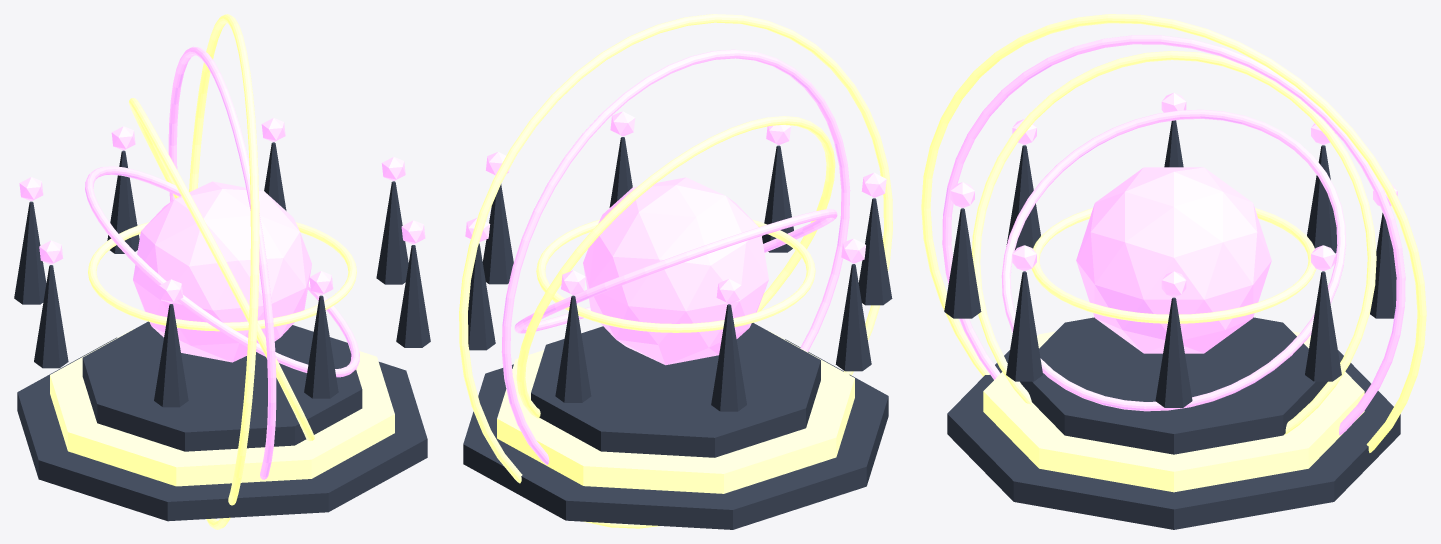
The model's file is gpu-blender-v36.glb.
3 renders of one model, left to right at view 1: azimuth 30°, elevation 25°; view 2: azimuth 150°, elevation 25°; view 3: azimuth 270°, elevation 25°, orthographic. The views are drawn at different scales.
Visible parts, largest first — view 1: Cylinder.002, Cylinder, SovereignCore_zoth-os-website, Cylinder.001, Torus.004, Torus.003, Torus.001, Torus.002, Torus, Cone.005, Cone.004, Cone.006 (+5 smaller); view 2: Cylinder.002, SovereignCore_zoth-os-website, Cylinder, Cylinder.001, Torus.004, Torus.003, Torus.002, Torus.001, Torus, Cone.004, Cone.003, Cone.002 (+5 smaller); view 3: SovereignCore_zoth-os-website, Cylinder.002, Cylinder, Cylinder.001, Torus.004, Torus.003, Torus.002, Torus.001, Torus, Cone.006, Cone.001, Cone.007 (+5 smaller).
Part boxes in pixels (box(x1,y1,x2,y2)): Cylinder.002: box(82, 321, 362, 451); Cylinder: box(17, 337, 427, 521); SovereignCore_zoth-os-website: box(133, 181, 311, 362); Cylinder.001: box(50, 329, 394, 486); Torus.004: box(189, 14, 259, 529); Torus.003: box(168, 46, 276, 479); Torus.001: box(85, 166, 359, 377); Torus.002: box(129, 98, 314, 440); Torus: box(88, 222, 356, 331); Cone.005: box(154, 304, 188, 407); Cone.004: box(34, 265, 68, 368); Cone.006: box(304, 295, 338, 398); Cylinder.002: box(531, 323, 820, 457); SovereignCore_zoth-os-website: box(583, 177, 768, 365); Cylinder: box(463, 339, 888, 529); Cylinder.001: box(497, 330, 854, 493); Torus.004: box(459, 14, 892, 528); Torus.003: box(501, 49, 850, 464); Torus.002: box(516, 116, 835, 418); Torus.001: box(514, 209, 837, 333); Torus: box(536, 219, 815, 332); Cone.004: box(835, 264, 871, 371); Cone.003: box(711, 304, 746, 411); Cone.002: box(555, 295, 591, 402); SovereignCore_zoth-os-website: box(1076, 167, 1271, 353); Cylinder.002: box(1020, 317, 1327, 454); Cylinder: box(947, 350, 1400, 529); Cylinder.001: box(983, 331, 1364, 492); Torus.004: box(921, 14, 1426, 452); Torus.003: box(942, 35, 1405, 435); Torus.002: box(972, 50, 1376, 434); Torus.001: box(1001, 109, 1346, 411); Torus: box(1031, 208, 1316, 323); Cone.006: box(944, 208, 981, 318); Cone.001: box(1305, 271, 1341, 381); Cone.007: box(1006, 271, 1042, 381).
Bounding box in the file's own units: 4.41 × 5.33 × 4.9.
